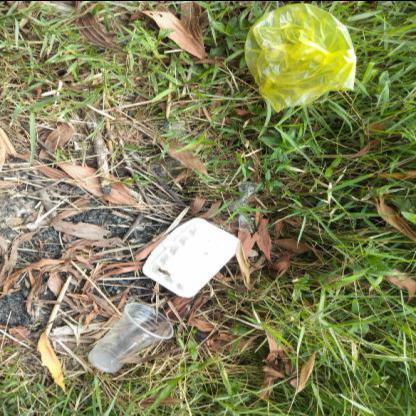Carton: (142, 217, 240, 297)
Cup: (88, 301, 174, 372)
Plastic bag - wrapper: (245, 2, 356, 112), (229, 180, 257, 212), (231, 213, 259, 233)
